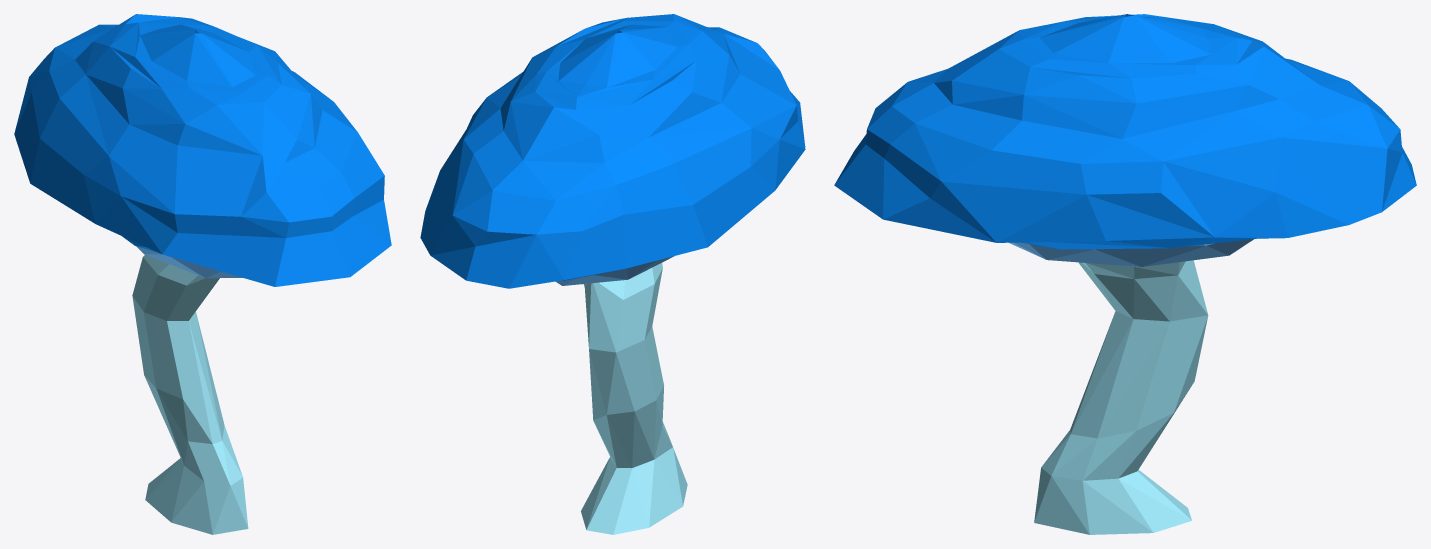
File: mushroom4.fbx
3 views of the same model, side by side, from view 1: azimuth 30°, elevation 25°; view 2: azimuth 150°, elevation 25°; view 3: azimuth 270°, elevation 25° (orthographic). The views are drawn at different scales.
Visible parts, largest first — view 1: mushroom4; view 2: mushroom4; view 3: mushroom4.
Boxes of the visible parts, x1,y1,x2,y2 form: mushroom4: [14, 14, 391, 534]; mushroom4: [420, 14, 805, 534]; mushroom4: [834, 14, 1416, 534].
Bounding box in the file's own units: 184 × 312 × 327.
